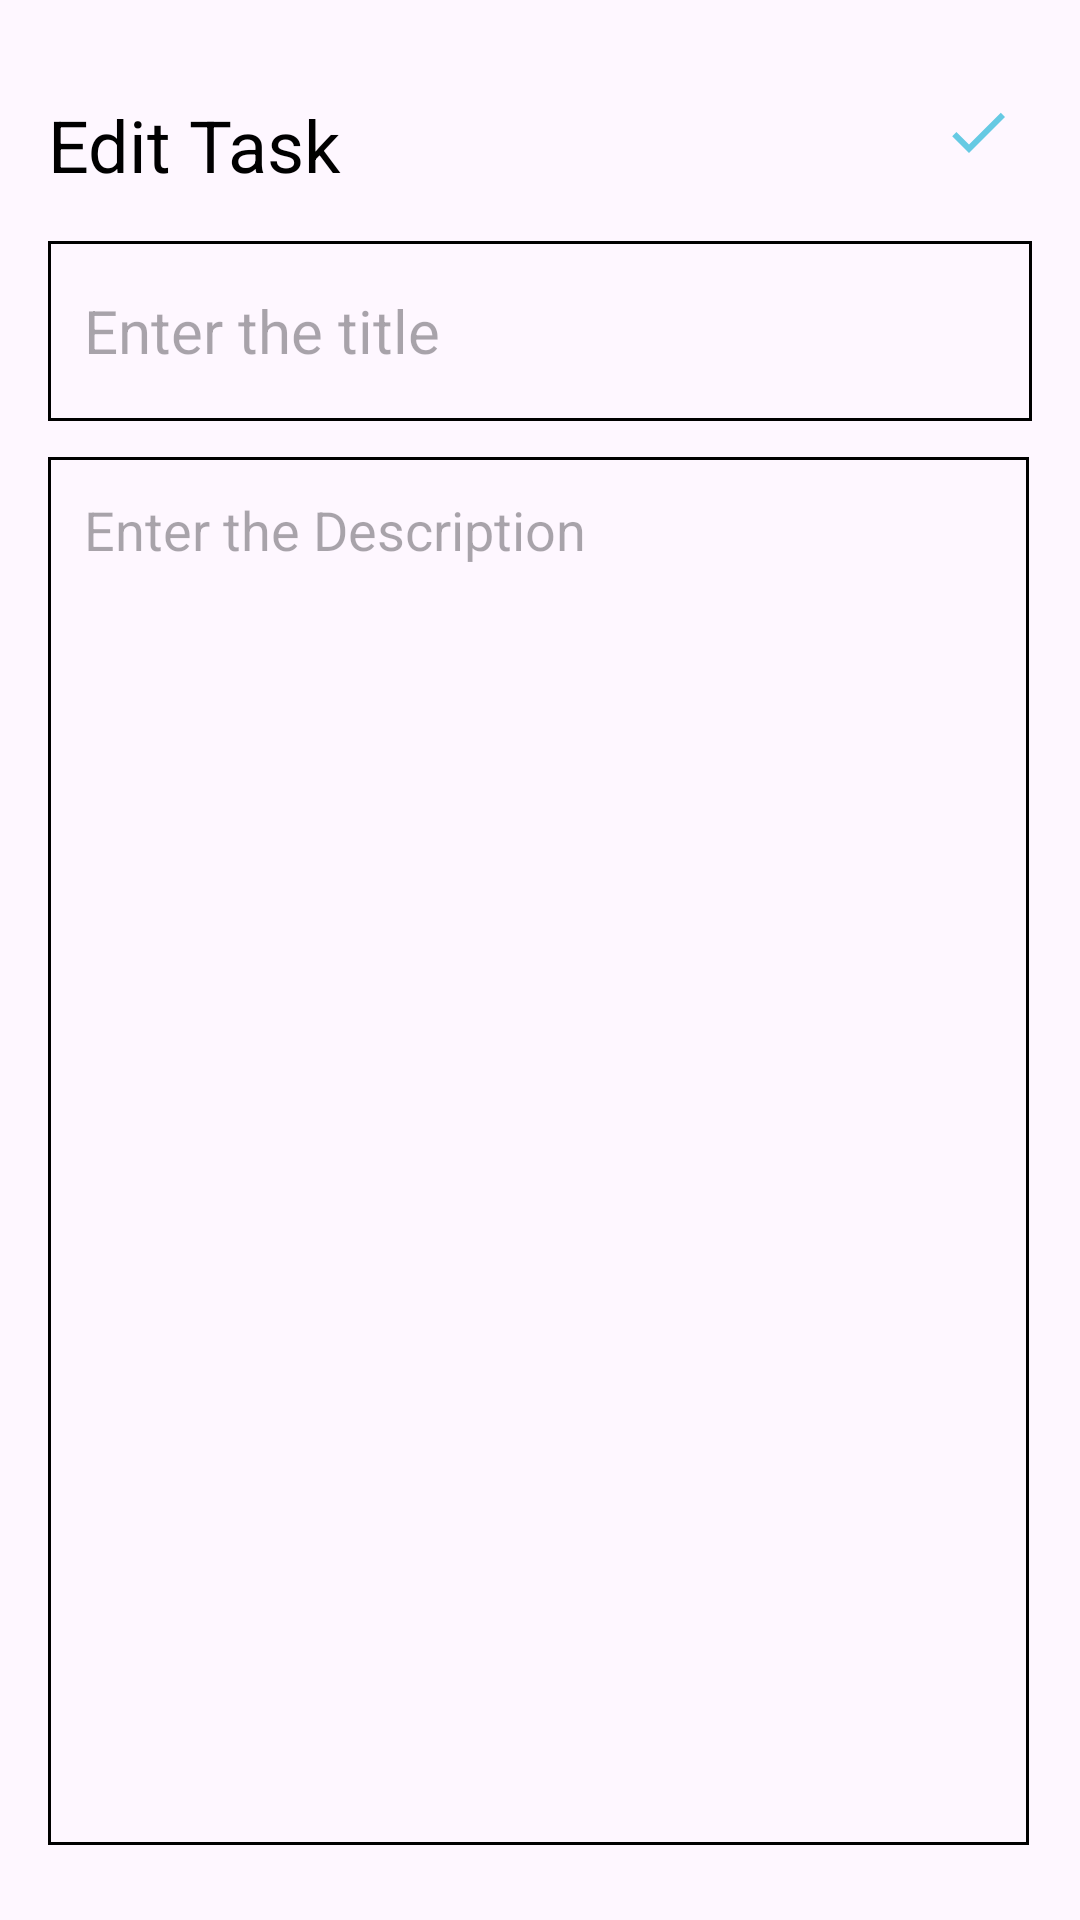

Icons on this 1080x1920 Android screen, each with the point to tap as [x,y]:
done: [978,133]
